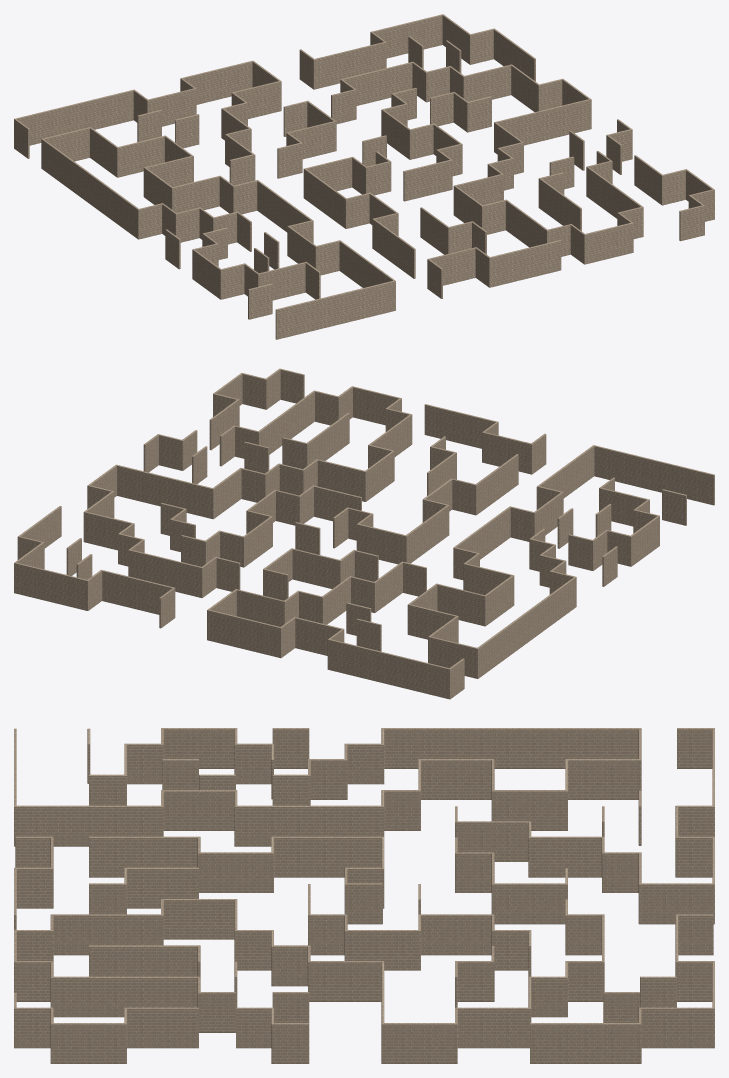
Rendered from maze.glb.
3 renders of one model, top to bottom at view 1: azimuth 30°, elevation 25°; view 2: azimuth 150°, elevation 25°; view 3: azimuth 270°, elevation 25°, orthographic. The views are drawn at different scales.
Parts seen in each view (by area): view 1: Maze; view 2: Maze; view 3: Maze.
Boxes of the visible parts, bbox=[...] form: Maze: bbox=[14, 14, 714, 339]; Maze: bbox=[14, 368, 714, 699]; Maze: bbox=[14, 728, 714, 1063].
Bounding box in the file's own units: 38.15 × 2.4 × 38.15.
Materials: 1 (1 with a texture image).
